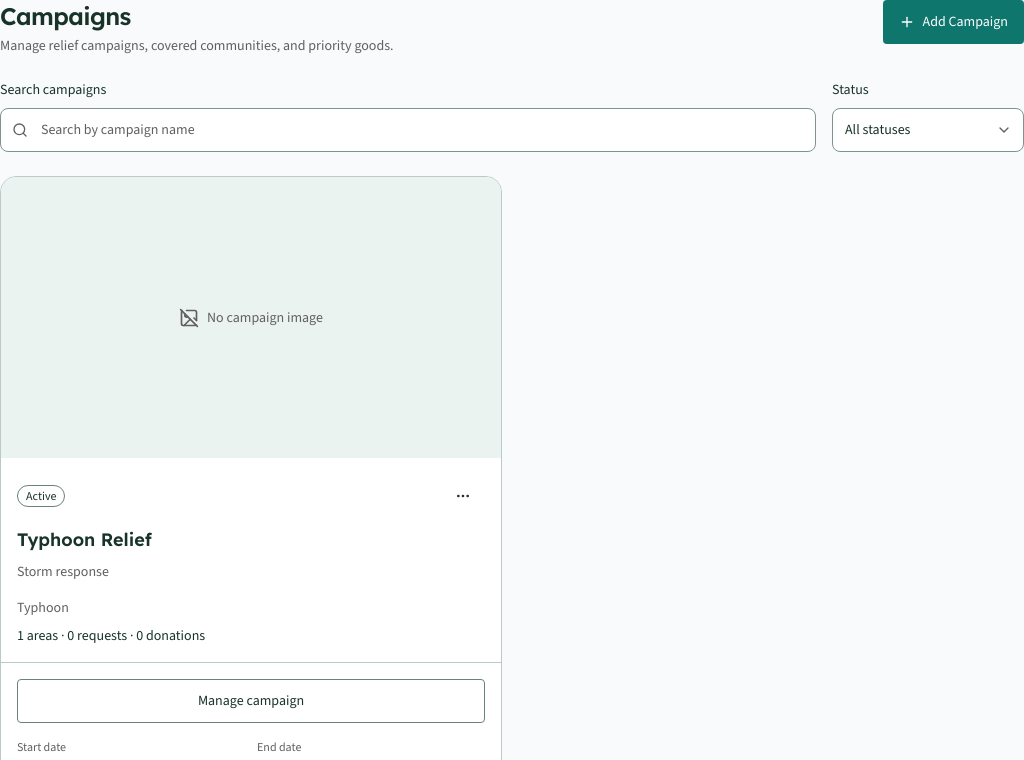
campaign grid and management › shows closure blockers and prevents confirmation until work is resolved
The image size is (1024, 760).
Click the button "Manage campaign" at (251, 701), box 17,679 -> 485,723
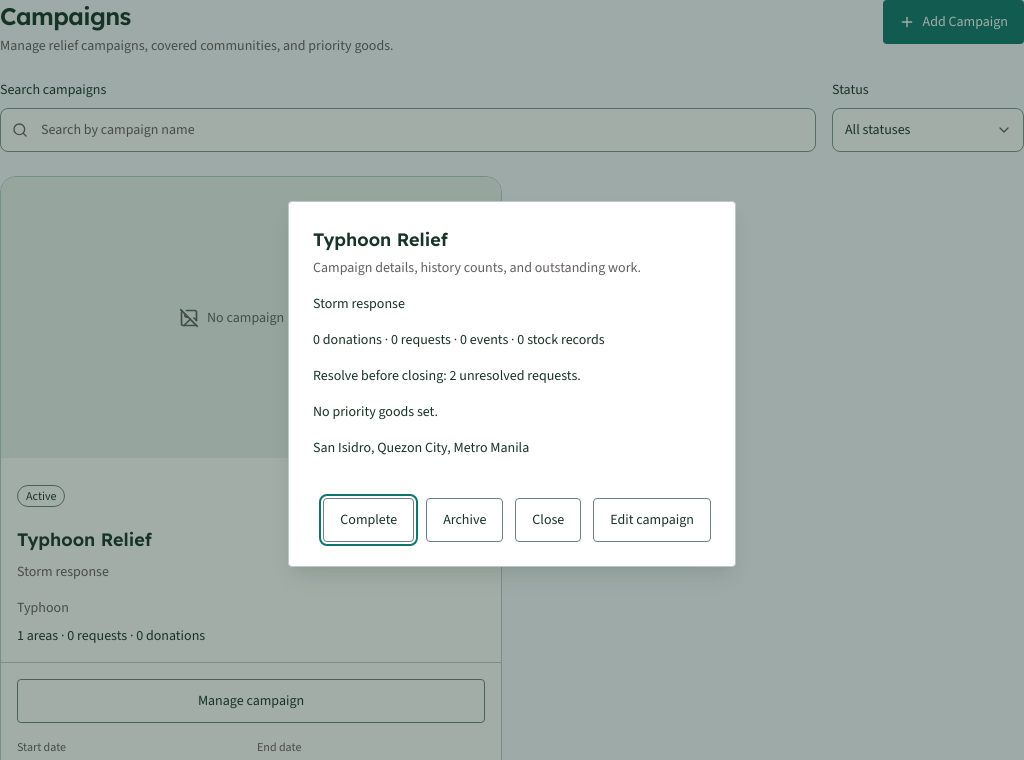
Click the button "Complete" at (369, 520), box 323,498 -> 414,542
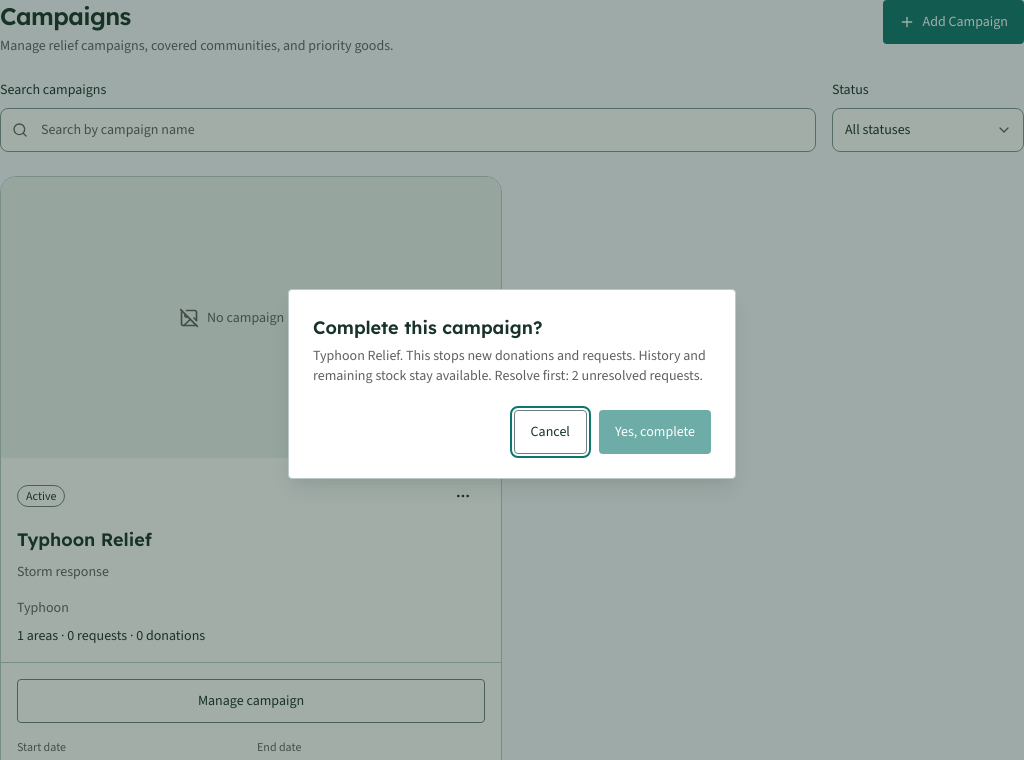
Result: the dialog "Complete this campaign?" is shown at 288,289 -> 736,479
Result: the button "Yes, complete" is disabled at 599,410 -> 711,454
Result: the text "Resolve first: 2 unresolved requests" is shown at 313,346 -> 706,385
